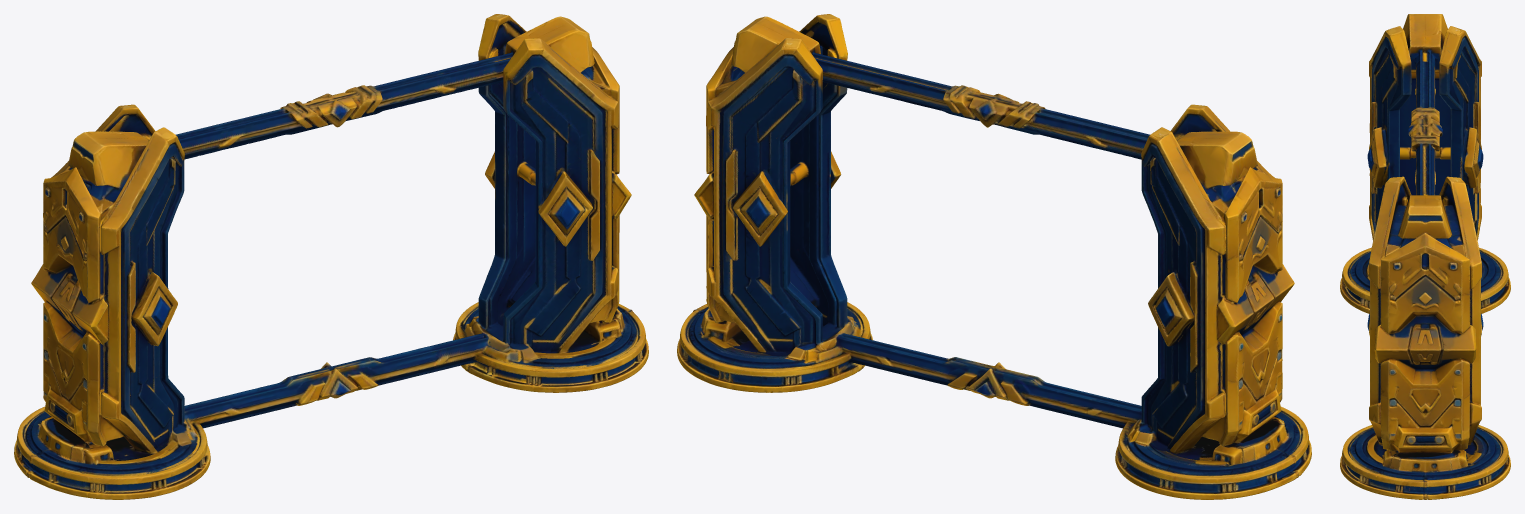
Rendered from portal-proxima-pergunta-web.glb.
3 views of the same model, side by side, from view 1: azimuth 30°, elevation 25°; view 2: azimuth 150°, elevation 25°; view 3: azimuth 270°, elevation 25° (orthographic). The views are drawn at different scales.
Size of the model in its own units: 1.9 by 0.9879 by 0.5581.
Materials: 1 (1 with a texture image).
